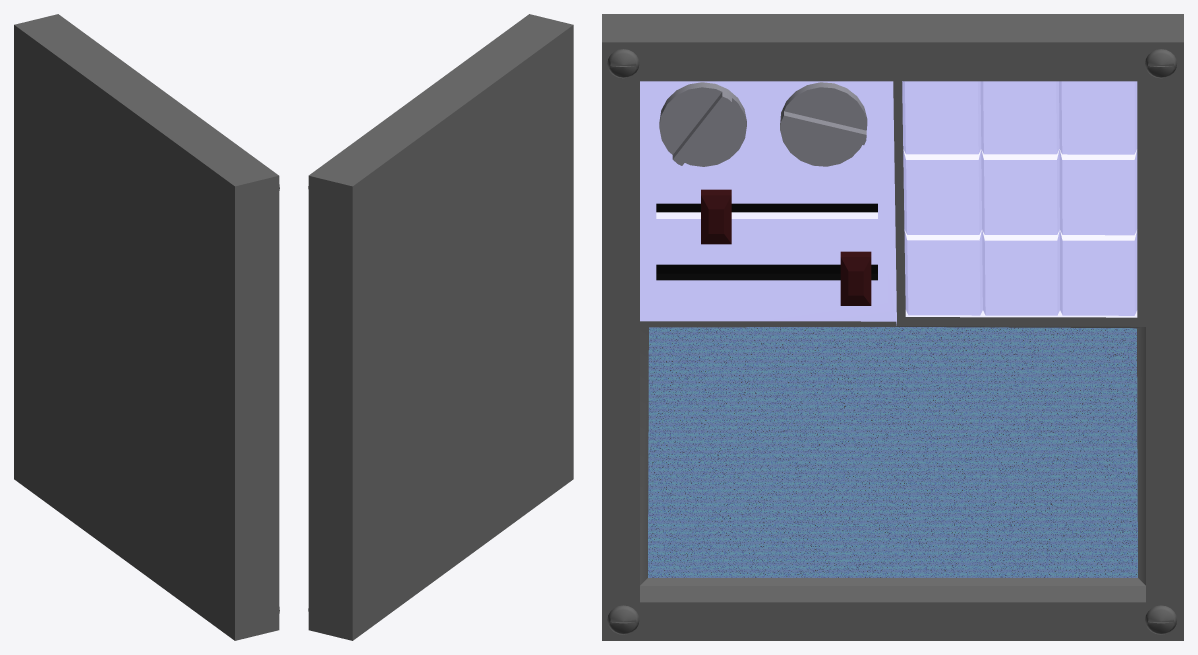
The model's file is wall_decor1.fbx.
3 renders of one model, left to right at view 1: azimuth 30°, elevation 25°; view 2: azimuth 150°, elevation 25°; view 3: azimuth 270°, elevation 25°, orthographic. The views are drawn at different scales.
Visible parts, largest first — view 1: pCube10; view 2: pCube10; view 3: pCube10.
Part boxes in pixels (<box>): pCube10: <box>14,14,279,640</box>; pCube10: <box>308,14,573,640</box>; pCube10: <box>602,14,1183,640</box>.
Bounding box in the file's own units: 3.6 × 31.34 × 27.61.
Materials: 7 (1 with a texture image).
